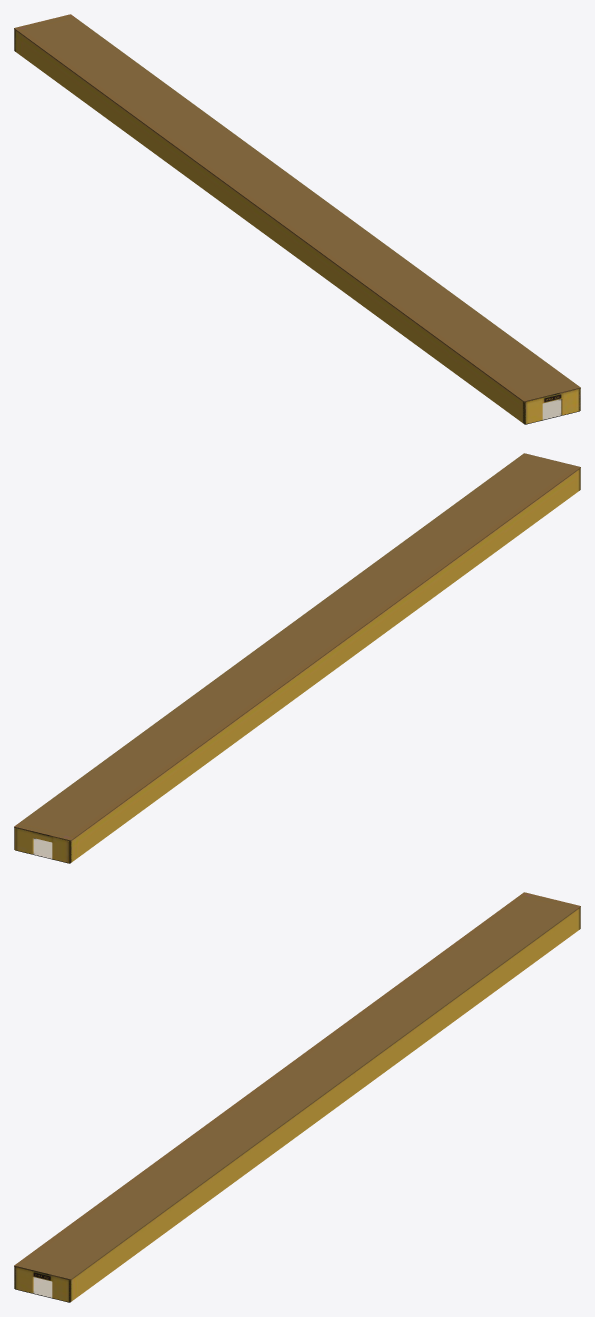
The model's file is bano_dorado.glb.
The picture shows the model from 3 angles, top to bottom: view 1: azimuth 30°, elevation 25°; view 2: azimuth 150°, elevation 25°; view 3: azimuth 330°, elevation 25°; orthographic projection.
Visible parts, largest first — view 1: bano_dorado; view 2: bano_dorado; view 3: bano_dorado.
Part boxes in pixels (box(x1,y1,x2,y2)): bano_dorado: box(14, 14, 580, 424); bano_dorado: box(14, 453, 580, 863); bano_dorado: box(14, 892, 580, 1302).
Size of the model in its own units: 27 by 10.7 by 421.
1 material, 1 textured.
